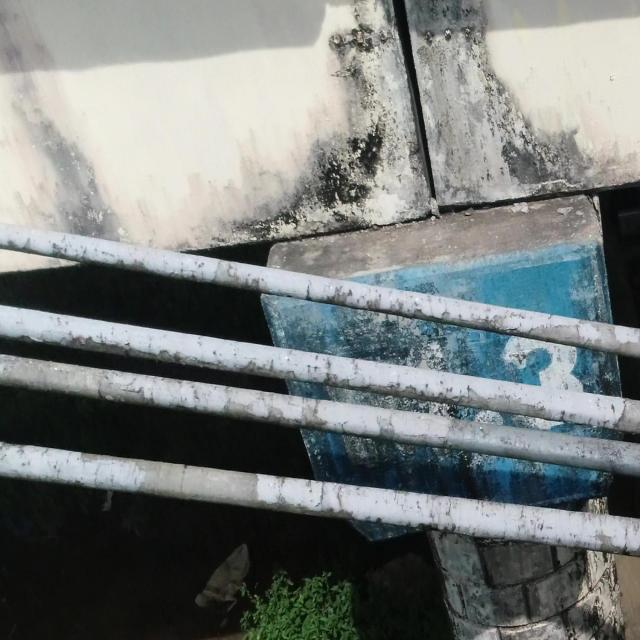crack: (315, 482, 326, 506), (180, 464, 188, 490), (336, 486, 343, 509), (94, 463, 99, 486), (97, 382, 103, 399), (624, 528, 628, 549), (341, 420, 347, 433), (306, 282, 310, 300), (560, 410, 566, 422), (82, 247, 87, 260), (180, 262, 184, 278), (346, 377, 351, 388), (448, 497, 451, 514), (466, 524, 471, 534), (42, 448, 49, 455), (426, 494, 430, 504), (502, 531, 506, 540), (587, 418, 591, 426), (394, 492, 397, 502)
